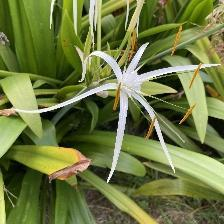spider lily: (16, 42, 223, 185)
